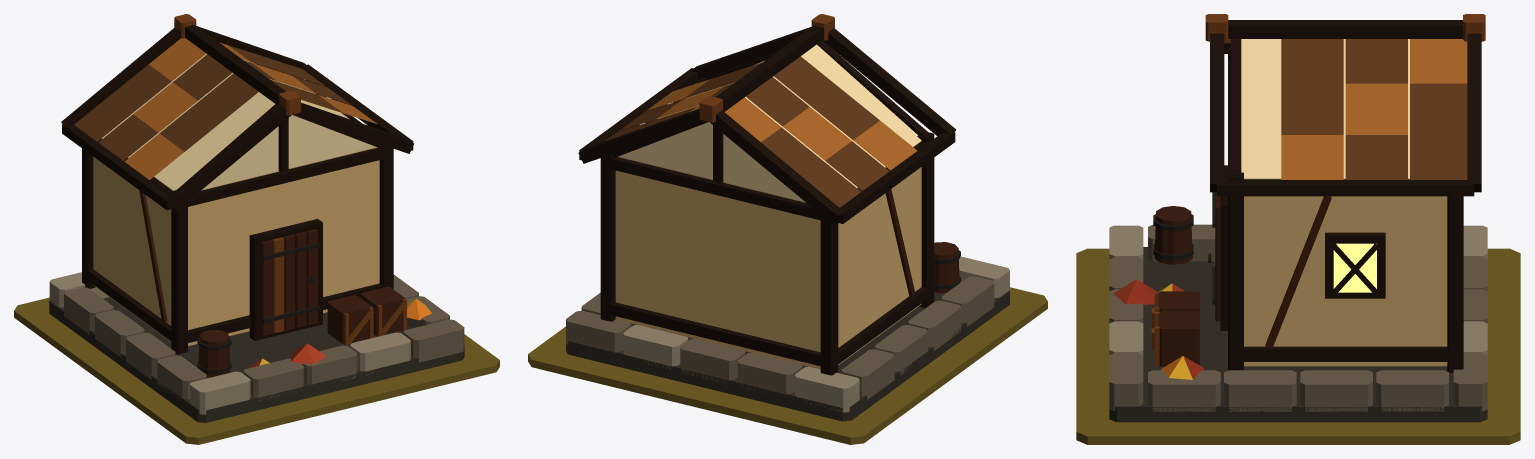
File: storehouse_t1.glb
The picture shows the model from 3 angles, left to right: view 1: azimuth 30°, elevation 25°; view 2: azimuth 150°, elevation 25°; view 3: azimuth 270°, elevation 25°; orthographic projection. The views are drawn at different scales.
Visible parts, largest first — view 1: MMR | storehouse | T01 Architecture.001, MMR | storehouse | Tier 01 Ground.001, MMR | storehouse | T01 Autumn Dressing.001; view 2: MMR | storehouse | T01 Architecture.001, MMR | storehouse | Tier 01 Ground.001; view 3: MMR | storehouse | T01 Architecture.001, MMR | storehouse | Tier 01 Ground.001, MMR | storehouse | T01 Autumn Dressing.001.
Boxes of the visible parts, box(x1,y1,x2,y2) form: MMR | storehouse | T01 Architecture.001: box(49, 14, 464, 422); MMR | storehouse | Tier 01 Ground.001: box(14, 297, 499, 444); MMR | storehouse | T01 Autumn Dressing.001: box(248, 298, 431, 368); MMR | storehouse | T01 Architecture.001: box(566, 14, 1009, 421); MMR | storehouse | Tier 01 Ground.001: box(528, 287, 1047, 444); MMR | storehouse | T01 Architecture.001: box(1109, 14, 1487, 422); MMR | storehouse | Tier 01 Ground.001: box(1076, 248, 1520, 444); MMR | storehouse | T01 Autumn Dressing.001: box(1113, 279, 1204, 379).
Size of the model in its own units: 2.35 by 1.94 by 2.35.
2 materials, 1 textured.
